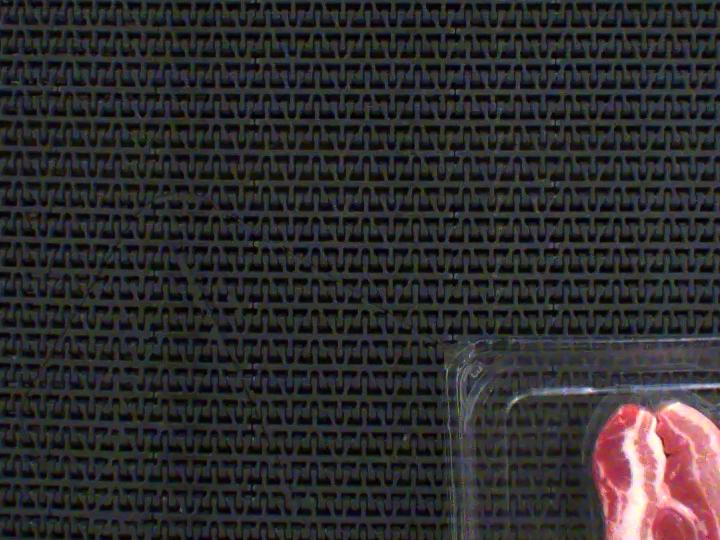unsealed: (572, 343, 720, 440)
